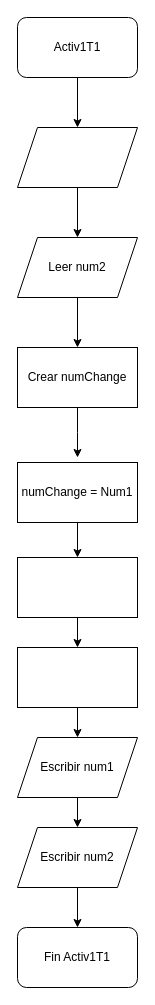
Image size: 155x1005. Some labels were removed from this diagram. The shapes that lost their labels are listed below. From the top down, each one's centre as x and y in pixels, then its label:
At point (77, 157): "Leer num1".
At point (77, 587): "Num1 = Num2".
At point (77, 677): "Num2 = numChange".
